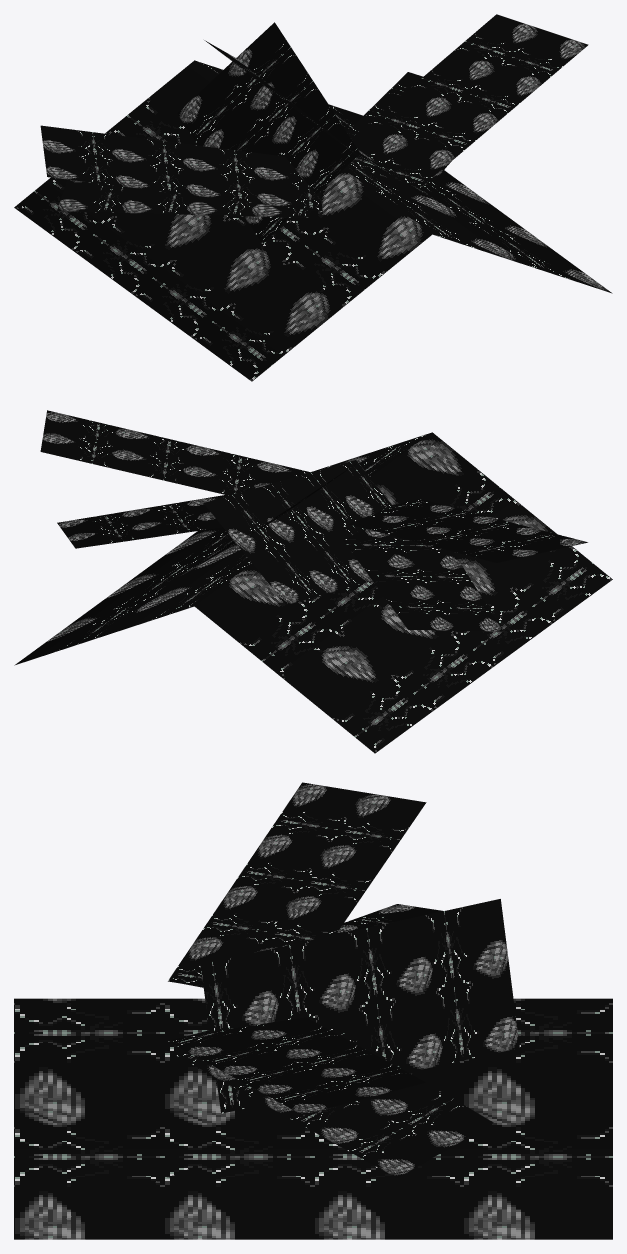
File: 5034musi44.gltf
The picture shows the model from 3 angles, top to bottom: view 1: azimuth 30°, elevation 25°; view 2: azimuth 150°, elevation 25°; view 3: azimuth 270°, elevation 25°; orthographic projection. The views are drawn at different scales.
Parts seen in each view (by area): view 1: 5034musi44; view 2: 5034musi44; view 3: 5034musi44.
Part boxes in pixels (x1=…): 5034musi44: x1=14, y1=14, x2=612, y2=381; 5034musi44: x1=14, y1=410, x2=612, y2=753; 5034musi44: x1=14, y1=782, x2=612, y2=1239.
Size of the model in its own units: 0.1113 by 0.0325 by 0.0847.
Materials: 4 (4 with a texture image).
